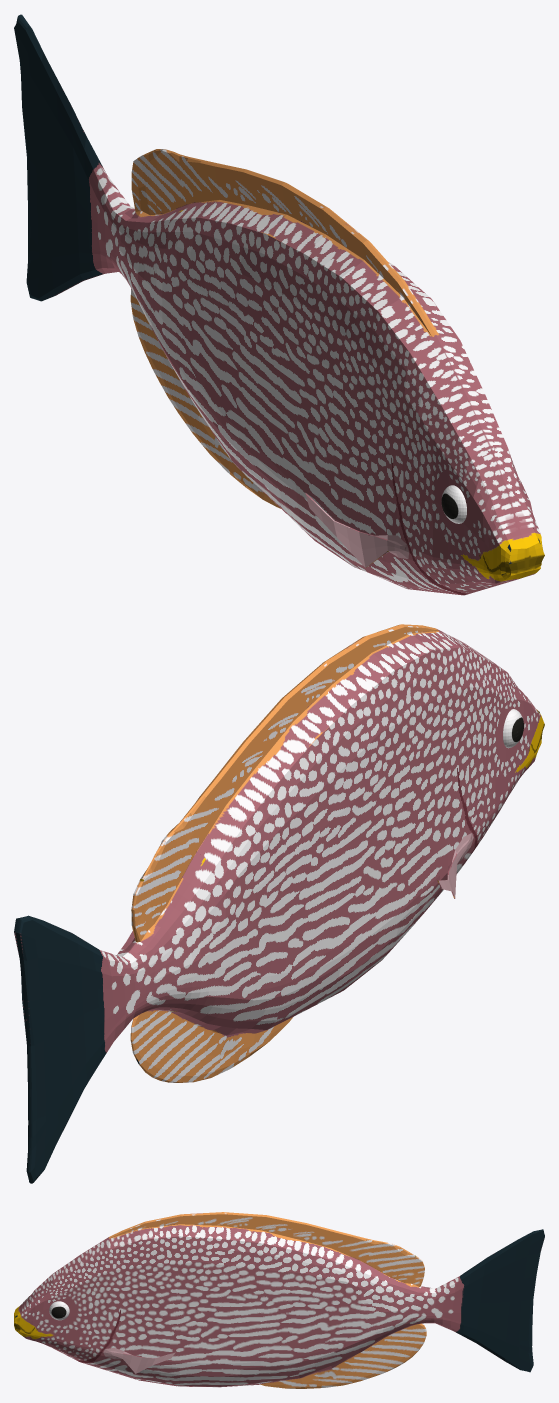
File: rabbitfish.fbx
3 views of the same model, one above another, from view 1: azimuth 30°, elevation 25°; view 2: azimuth 150°, elevation 25°; view 3: azimuth 270°, elevation 25° (orthographic). The views are drawn at different scales.
Visible parts, largest first — view 1: Cube; view 2: Cube; view 3: Cube.
Part boxes in pixels (x1,y1,x2,y2): Cube: (14, 14, 544, 595); Cube: (14, 624, 544, 1183); Cube: (14, 1212, 544, 1388).
Bounding box in the file's own units: 0.3019 × 0.7353 × 2.
2 materials, 2 textured.
